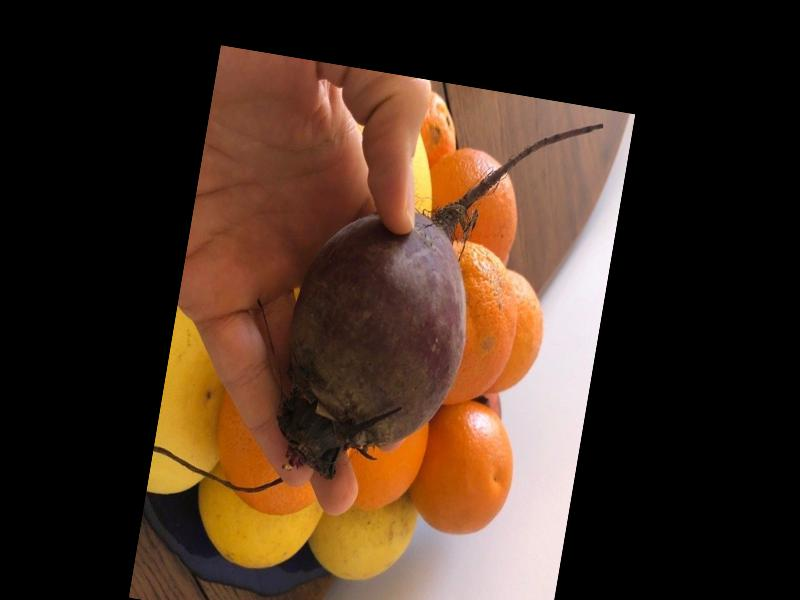Beet: (268, 79, 603, 507)
